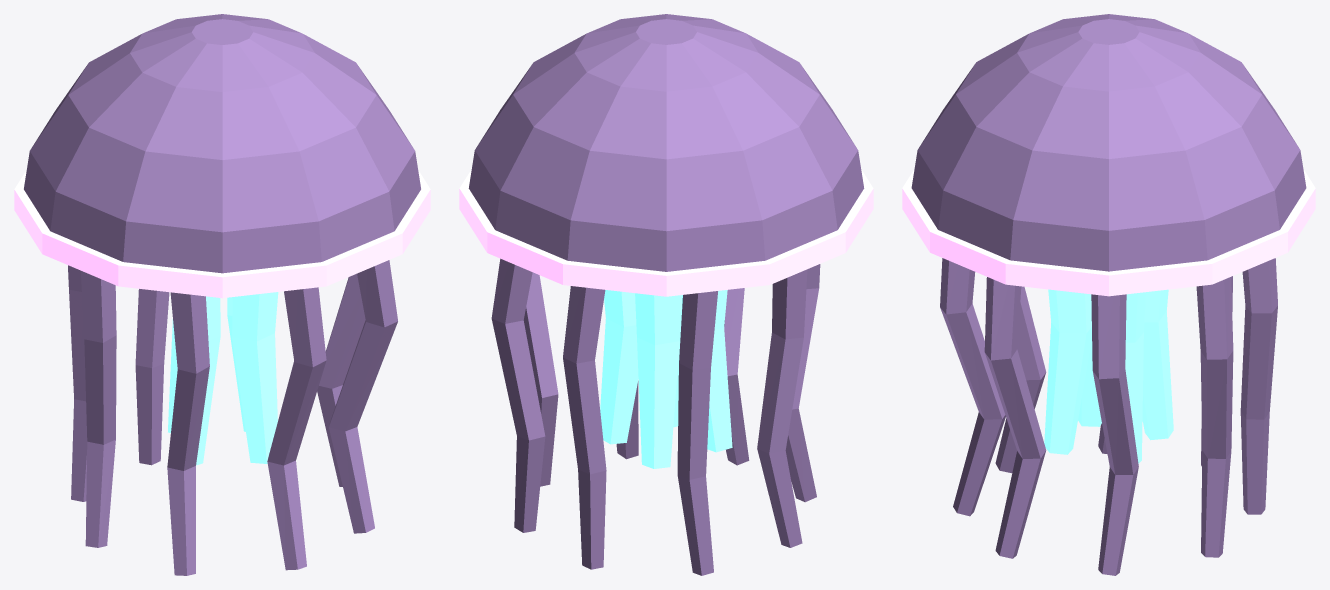
File: jellyfish.glb
3 renders of one model, left to right at view 1: azimuth 30°, elevation 25°; view 2: azimuth 150°, elevation 25°; view 3: azimuth 270°, elevation 25°, orthographic.
Visible parts, largest first — view 1: DL019_Jellyfish_coral_violet, DL019_Jellyfish_emissive_violet, DL019_Jellyfish_emissive_teal; view 2: DL019_Jellyfish_coral_violet, DL019_Jellyfish_emissive_teal, DL019_Jellyfish_emissive_violet; view 3: DL019_Jellyfish_coral_violet, DL019_Jellyfish_emissive_teal, DL019_Jellyfish_emissive_violet.
Boxes of the visible parts, bbox=[...] form: DL019_Jellyfish_coral_violet: bbox=[24, 14, 420, 575]; DL019_Jellyfish_emissive_violet: bbox=[14, 170, 430, 298]; DL019_Jellyfish_emissive_teal: bbox=[168, 292, 278, 465]; DL019_Jellyfish_coral_violet: bbox=[468, 14, 864, 575]; DL019_Jellyfish_emissive_teal: bbox=[600, 290, 732, 468]; DL019_Jellyfish_emissive_violet: bbox=[459, 169, 873, 296]; DL019_Jellyfish_coral_violet: bbox=[911, 14, 1306, 575]; DL019_Jellyfish_emissive_teal: bbox=[1044, 289, 1173, 463]; DL019_Jellyfish_emissive_violet: bbox=[902, 169, 1315, 296].
Bounding box in the file's own units: 1.08 × 1.39 × 1.08.
